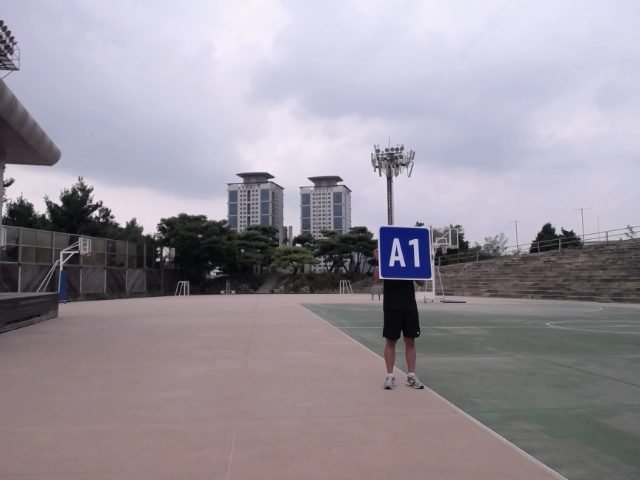delivery_a1: (379, 226, 433, 280)
